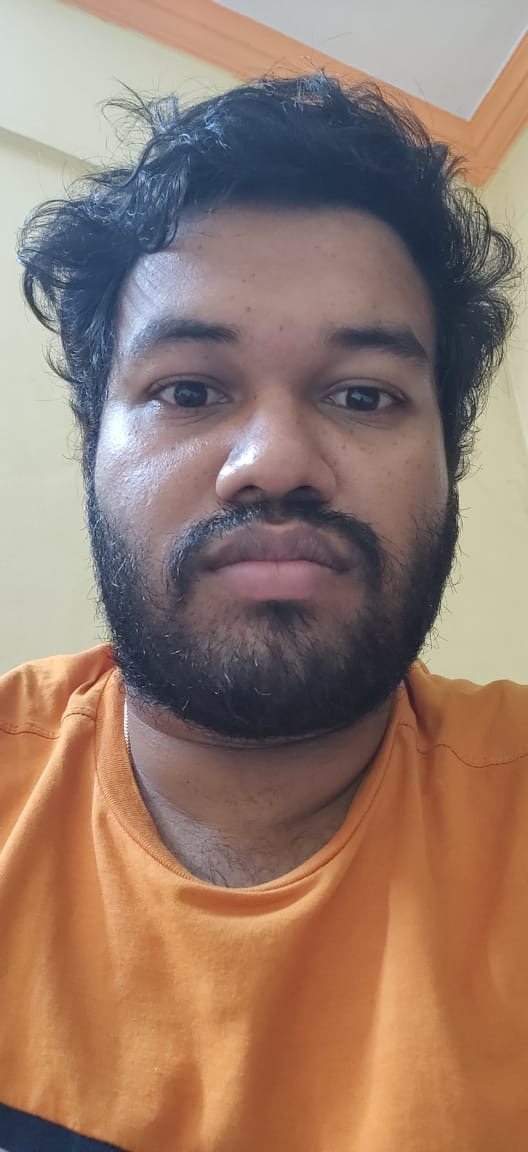Not Sleeping: (123, 355, 442, 438)
